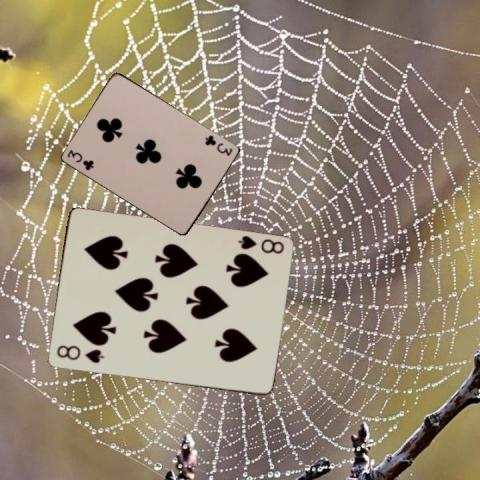3c: (202, 132, 234, 157), (65, 147, 95, 172)
8s: (54, 342, 106, 365), (235, 233, 285, 255)
